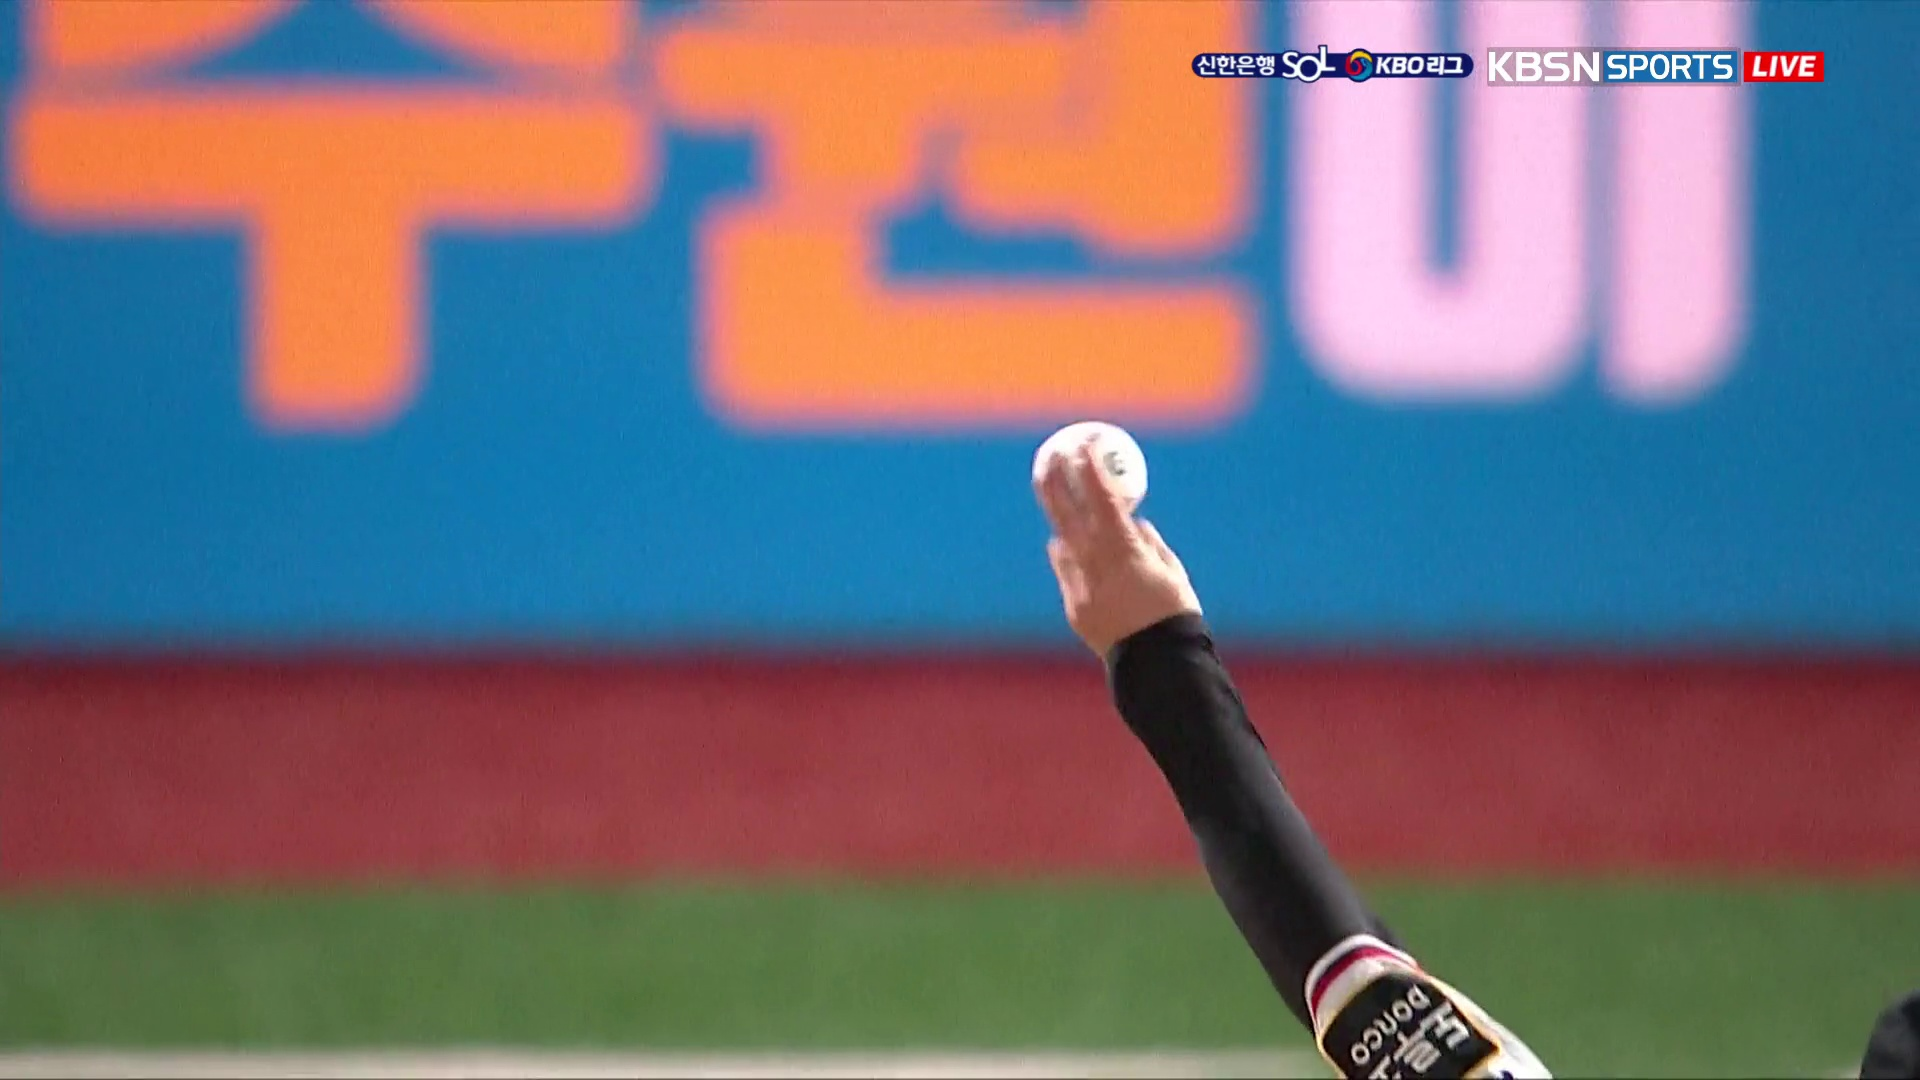zoomin_hand: (1025, 411, 1396, 1015)
